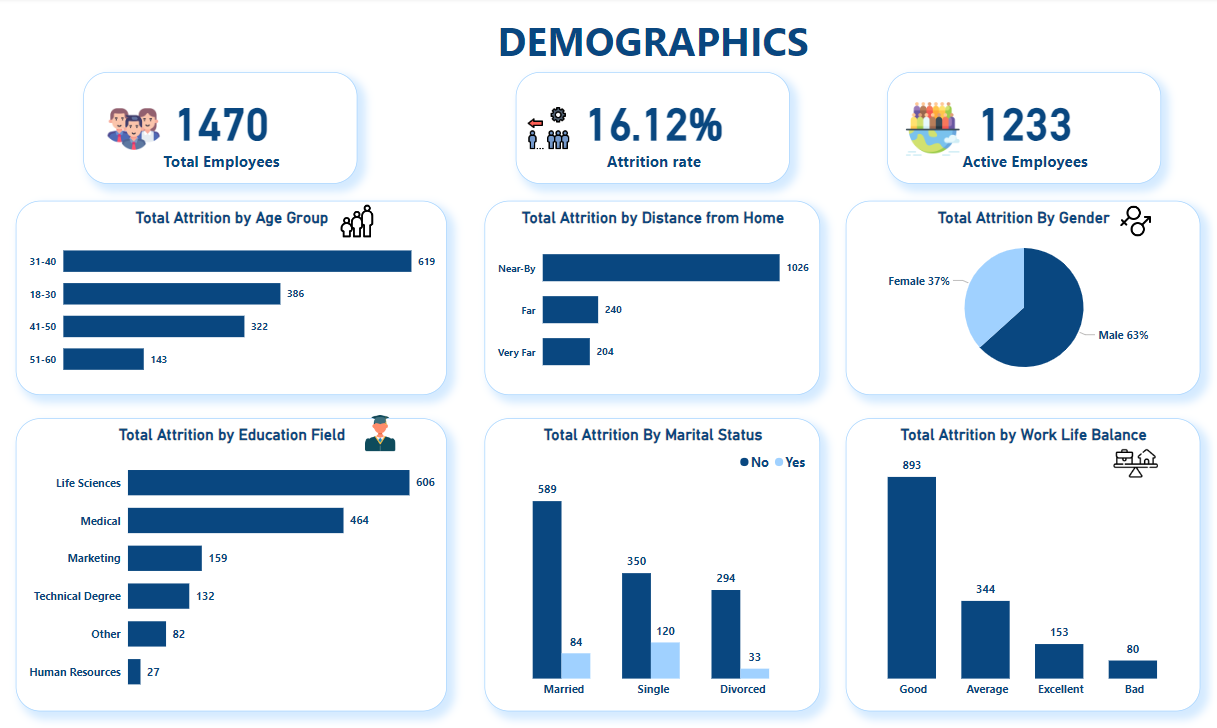

Layout of this report page (visuals, bound fields, positions):
{"tool":"powerbi","page":{"name":"DEMOGRAPHICS","canvas":[1500,900],"ordinal":1},"visuals":[{"type":"card","fields":{"Values":["Sum(HR-Employee-Attrition.EmployeeCount)"]},"box":[104.9,91.3,335.3,136.9],"z":0},{"type":"clusteredBarChart","title":"Total Attrition by Education Field","fields":{"Category":["HR-Employee-Attrition.EducationField"],"Y":["CountNonNull(HR-Employee-Attrition.Attrition)"]},"box":[22.8,515.6,527,358.2],"z":1000},{"type":"card","fields":{"Values":["HR-Employee-Attrition.Attrition rate"]},"box":[634.2,91.3,335.3,136.9],"z":2000},{"type":"card","fields":{"Values":["HR-Employee-Attrition.Total employees left"]},"box":[1088.2,91.3,335.3,136.9],"z":3000},{"type":"pieChart","title":"Total Attrition By Gender","fields":{"Category":["HR-Employee-Attrition.Gender"],"Y":["Sum(HR-Employee-Attrition.Attrition number)"]},"box":[1038,248.7,433.4,237.3],"z":4000},{"type":"clusteredColumnChart","title":"Total Attrition By Marital Status","fields":{"Category":["HR-Employee-Attrition.MaritalStatus"],"Series":["HR-Employee-Attrition.Attrition"],"Y":["Sum(HR-Employee-Attrition.EmployeeCount)"]},"box":[595.4,515.6,410.6,358.2],"z":5000},{"type":"columnChart","title":"Total Attrition by Work Life Balance","fields":{"Category":["HR-Employee-Attrition.WorkLifeBalance (groups)"],"Y":["Sum(HR-Employee-Attrition.EmployeeCount)"]},"box":[1038,515.6,433.4,358.2],"z":6000},{"type":"barChart","title":"Total Attrition by Age Group","fields":{"Category":["HR-Employee-Attrition.Age (groups)"],"Y":["CountNonNull(HR-Employee-Attrition.Attrition)"]},"box":[22.8,248.7,527,237.3],"z":7000},{"type":"barChart","title":"Total Attrition by Distance from Home","fields":{"Category":["HR-Employee-Attrition.DistanceFromHome (groups)"],"Y":["CountNonNull(HR-Employee-Attrition.Attrition)"]},"box":[595.4,248.7,410.6,237.3],"z":8000},{"type":"textbox","box":[244.1,16,1115.5,148.3],"z":9000},{"type":"image","box":[123.2,123.2,86.7,75.3],"z":10000},{"type":"image","box":[408.3,248.7,63.9,50.2],"z":11000},{"type":"image","box":[634.2,127.8,79.8,63.9],"z":12000},{"type":"image","box":[1359.6,248.7,63.9,50.2],"z":13000},{"type":"image","box":[1106.4,123.2,75.3,75.3],"z":14000},{"type":"image","box":[1359.6,533.8,63.9,73],"z":15000},{"type":"image","box":[440.3,492.8,57,82.1],"z":16000}]}

Visuals, with their boxes in screenshot pixels (x1, y1, x2, y2), scaled from the page's 1500x900 canvas onto the 1217x728 screenshot:
card - Sum(HR-Employee-Attrition.EmployeeCount): left=85, top=74, right=357, bottom=185
"Total Attrition by Education Field" clusteredBarChart: left=18, top=417, right=446, bottom=707
card - HR-Employee-Attrition.Attrition rate: left=515, top=74, right=787, bottom=185
card - HR-Employee-Attrition.Total employees left: left=883, top=74, right=1155, bottom=185
"Total Attrition By Gender" pieChart: left=842, top=201, right=1194, bottom=393
"Total Attrition By Marital Status" clusteredColumnChart: left=483, top=417, right=816, bottom=707
"Total Attrition by Work Life Balance" columnChart: left=842, top=417, right=1194, bottom=707
"Total Attrition by Age Group" barChart: left=18, top=201, right=446, bottom=393
"Total Attrition by Distance from Home" barChart: left=483, top=201, right=816, bottom=393
textbox: left=198, top=13, right=1103, bottom=133
image: left=100, top=100, right=170, bottom=161
image: left=331, top=201, right=383, bottom=242
image: left=515, top=103, right=579, bottom=155
image: left=1103, top=201, right=1155, bottom=242
image: left=898, top=100, right=959, bottom=161
image: left=1103, top=432, right=1155, bottom=491
image: left=357, top=399, right=403, bottom=465
